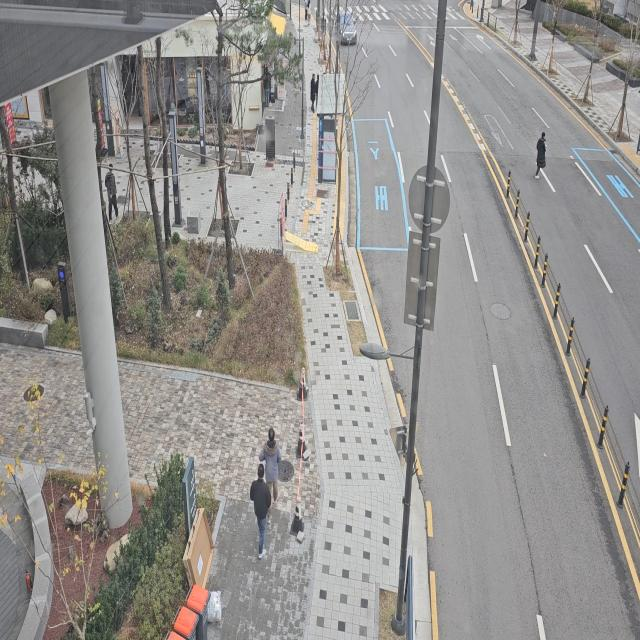Car: (334, 5, 360, 48)
